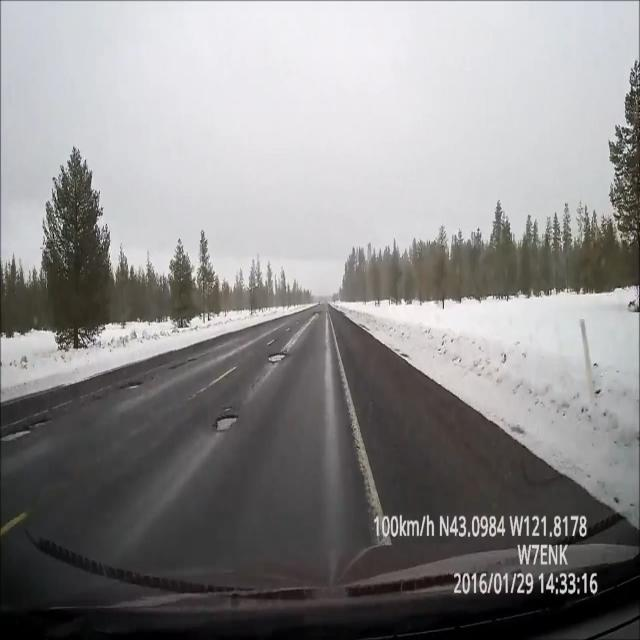Pothole: (2, 418, 61, 450), (209, 404, 239, 442), (113, 375, 149, 399), (266, 344, 289, 370)
